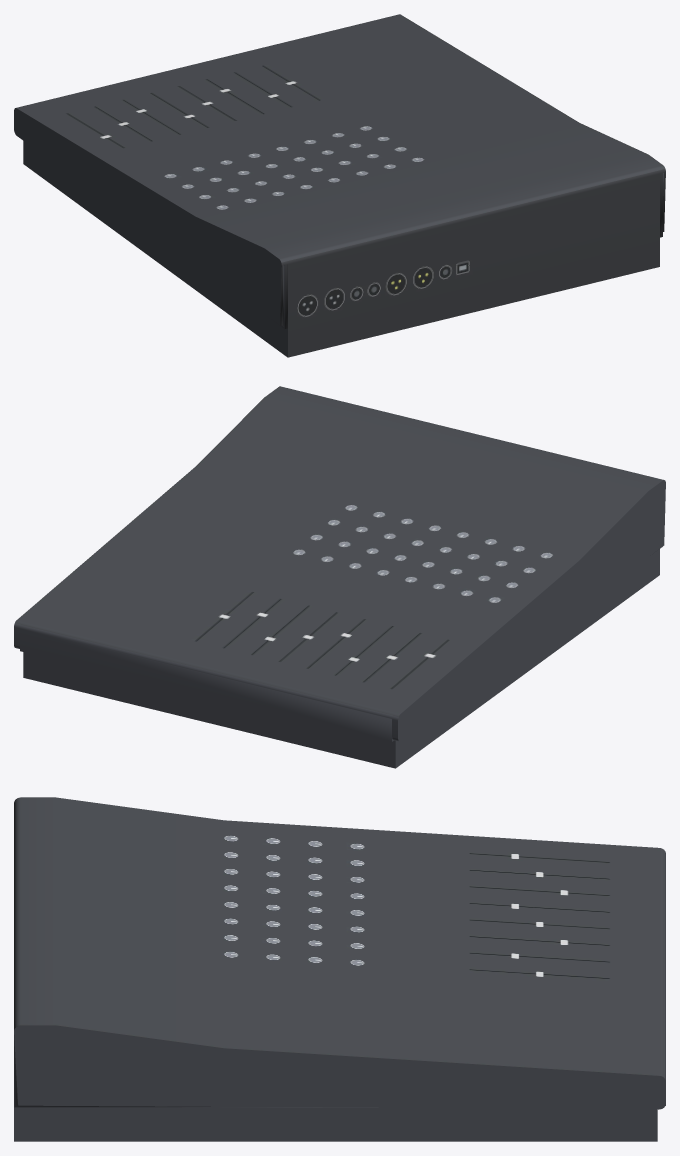
Rendered from allen-heath-zed-14.glb.
The picture shows the model from 3 angles, top to bottom: view 1: azimuth 30°, elevation 25°; view 2: azimuth 150°, elevation 25°; view 3: azimuth 270°, elevation 25°; orthographic projection. The views are drawn at different scales.
Visible parts, largest first — view 1: allen-heath-zed-14-body; view 2: allen-heath-zed-14-body; view 3: allen-heath-zed-14-body.
Part boxes in pixels (<box>): allen-heath-zed-14-body: <box>14,14,665,357</box>; allen-heath-zed-14-body: <box>14,386,665,768</box>; allen-heath-zed-14-body: <box>14,797,665,1141</box>.
Size of the model in its own units: 0.385 by 0.098 by 0.465.
Materials: 1 (1 with a texture image).
